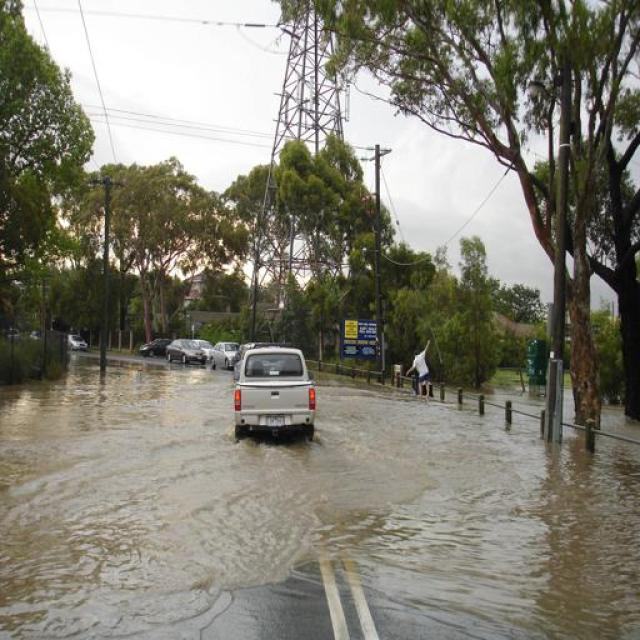puddle: (334, 379, 640, 615), (2, 383, 230, 593), (164, 447, 438, 556)
